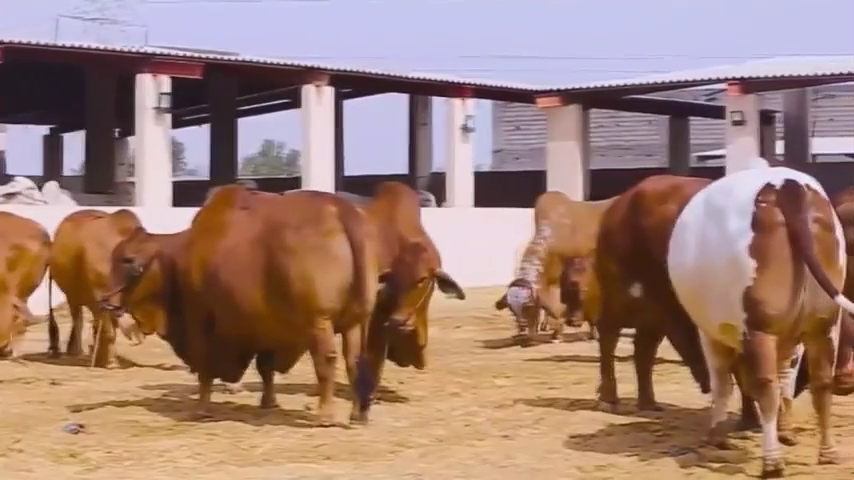bo: (95, 182, 376, 428), (651, 166, 844, 475), (313, 168, 471, 393), (580, 166, 704, 415), (486, 174, 601, 346), (44, 196, 147, 373), (1, 203, 46, 354), (547, 246, 602, 333)
